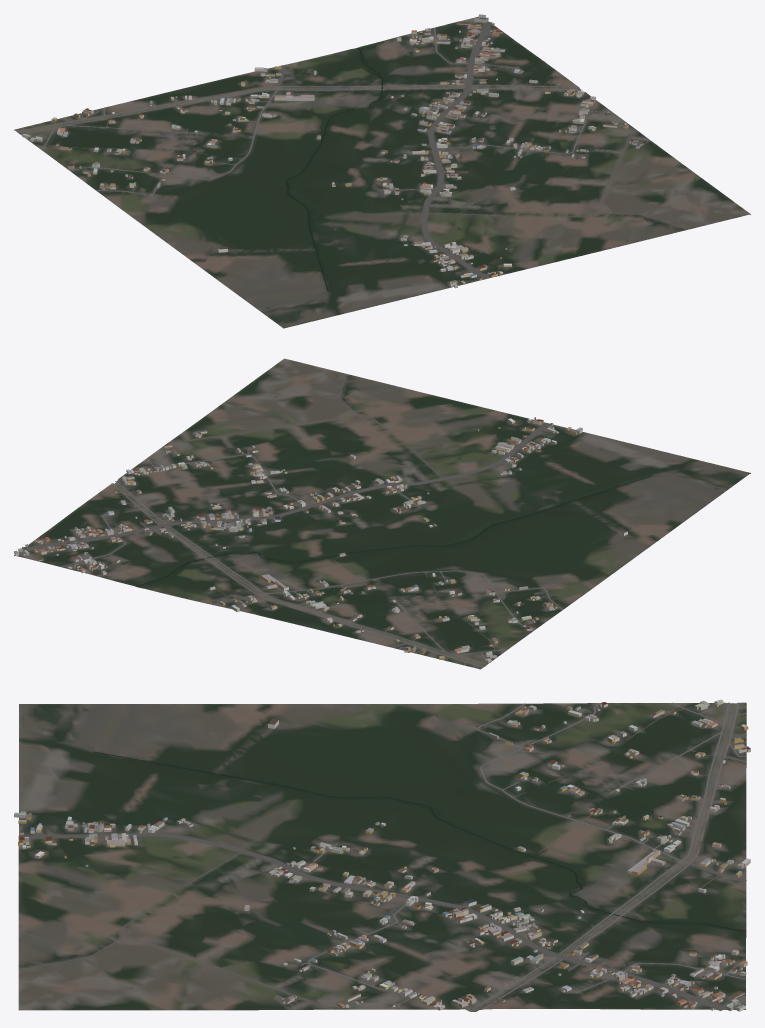
3 renders of one model, top to bottom at view 1: azimuth 30°, elevation 25°; view 2: azimuth 150°, elevation 25°; view 3: azimuth 270°, elevation 25°, orthographic. The views are drawn at different scales.
Visible parts, largest first — view 1: ground, buildings, roads, water; view 2: ground, buildings, roads, water; view 3: ground, buildings, roads, water.
Part boxes in pixels (x1,y1,x2,y2): ground: [14, 16, 750, 328]; buildings: [22, 14, 643, 288]; roads: [17, 21, 688, 279]; water: [19, 47, 576, 291]; ground: [14, 358, 750, 669]; buildings: [14, 417, 627, 662]; roads: [26, 373, 562, 667]; water: [115, 476, 651, 665]; ground: [18, 702, 746, 1011]; buildings: [14, 699, 750, 1011]; roads: [18, 702, 746, 1010]; water: [93, 703, 746, 1011].
Bounding box in the file's own units: 1408 × 17.16 × 1419.
